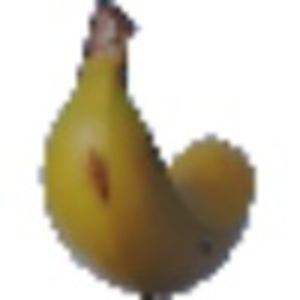banana: (39, 7, 265, 294)
